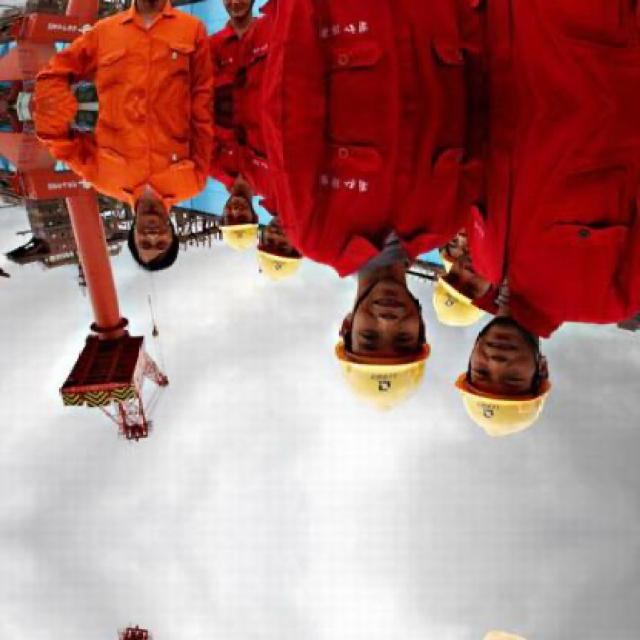con casco: (286, 238, 562, 444), (79, 181, 214, 275)
